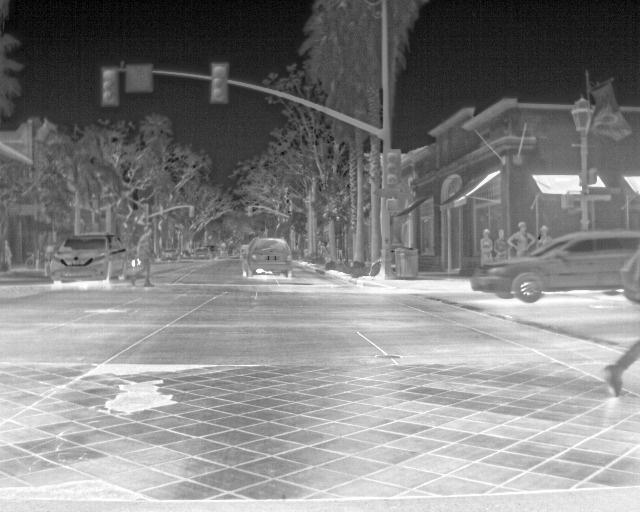bicycle: (468, 227, 638, 301), (48, 230, 128, 285), (242, 234, 294, 279), (157, 246, 179, 262), (193, 246, 213, 260), (208, 244, 220, 261)
empty: (600, 340, 638, 400), (126, 224, 157, 283), (504, 221, 537, 257), (489, 225, 510, 263), (478, 224, 492, 268), (533, 224, 551, 245)
